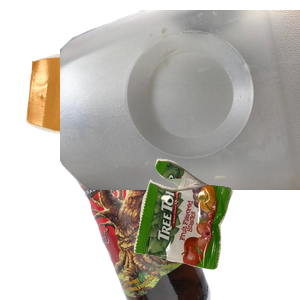glass: (65, 120, 300, 300)
paper: (23, 51, 206, 189)
plastic: (60, 10, 300, 190)
trash: (131, 156, 300, 300)
